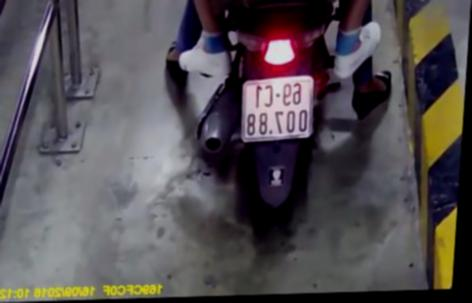License_Plate: (231, 70, 326, 143)
